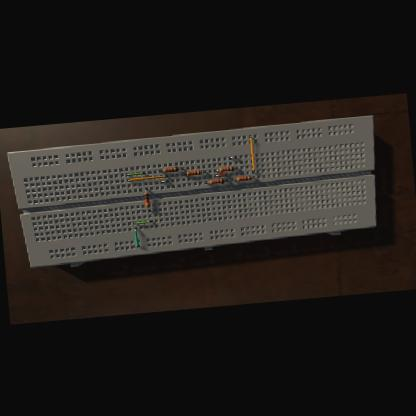breadboard: (6, 114, 383, 270)
resistor: (143, 192, 149, 207), (218, 166, 233, 172), (163, 165, 178, 171), (186, 169, 200, 175), (209, 178, 224, 182), (236, 176, 251, 180)
wire: (127, 174, 167, 180), (249, 134, 254, 172), (133, 227, 139, 246), (126, 171, 145, 175), (133, 220, 151, 224), (214, 174, 226, 176), (161, 179, 168, 182), (228, 155, 235, 158), (148, 206, 150, 210), (182, 172, 186, 174), (145, 188, 147, 191), (251, 176, 254, 178), (178, 168, 182, 169), (224, 179, 227, 180), (232, 178, 235, 179), (234, 167, 237, 168), (202, 171, 204, 172), (205, 182, 208, 182), (214, 170, 218, 170), (160, 170, 163, 170)
